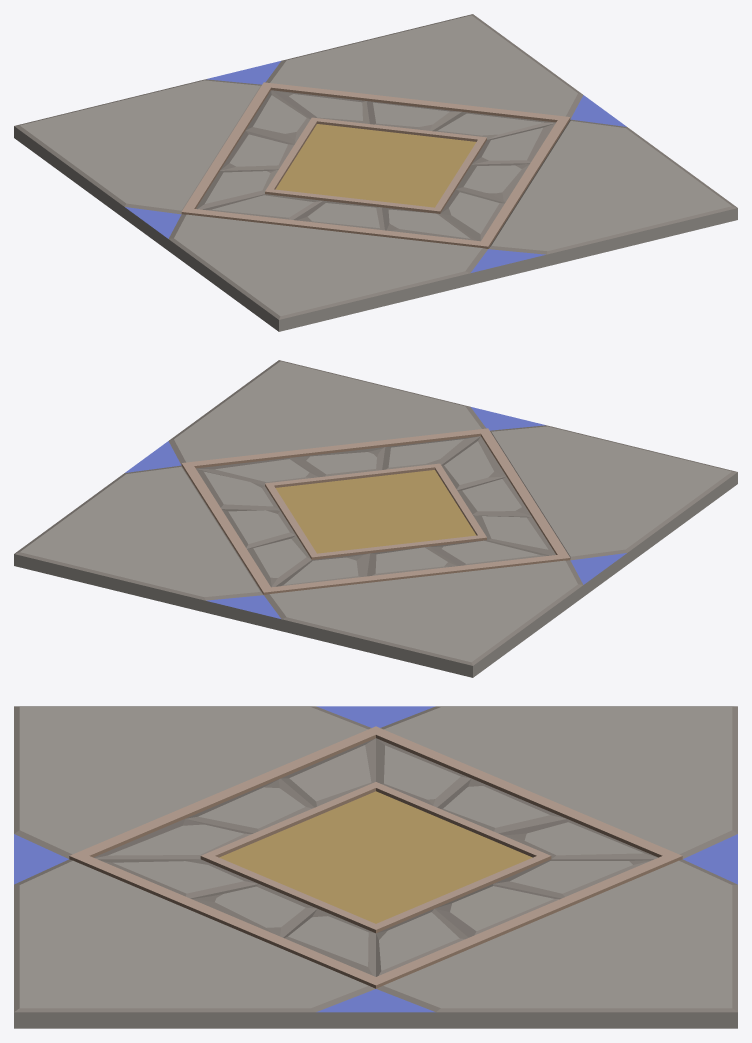
Rendered from Floor_Tiles_2M_04.glb.
3 views of the same model, one above another, from view 1: azimuth 30°, elevation 25°; view 2: azimuth 150°, elevation 25°; view 3: azimuth 270°, elevation 25° (orthographic). The views are drawn at different scales.
Visible parts, largest first — view 1: Floor_Tiles_2M_04; view 2: Floor_Tiles_2M_04; view 3: Floor_Tiles_2M_04.
Boxes of the visible parts, <box> form: Floor_Tiles_2M_04: <box>14,14,737,331</box>; Floor_Tiles_2M_04: <box>14,360,737,677</box>; Floor_Tiles_2M_04: <box>14,706,737,1028</box>.
Size of what is drawn, in the model's own units: 2 by 0.0604 by 2.
Materials: 1 (1 with a texture image).
